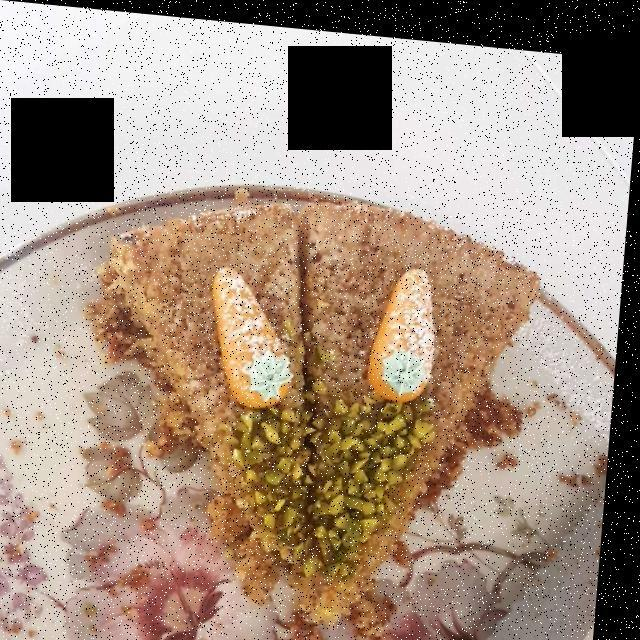cake: (109, 200, 532, 616)
